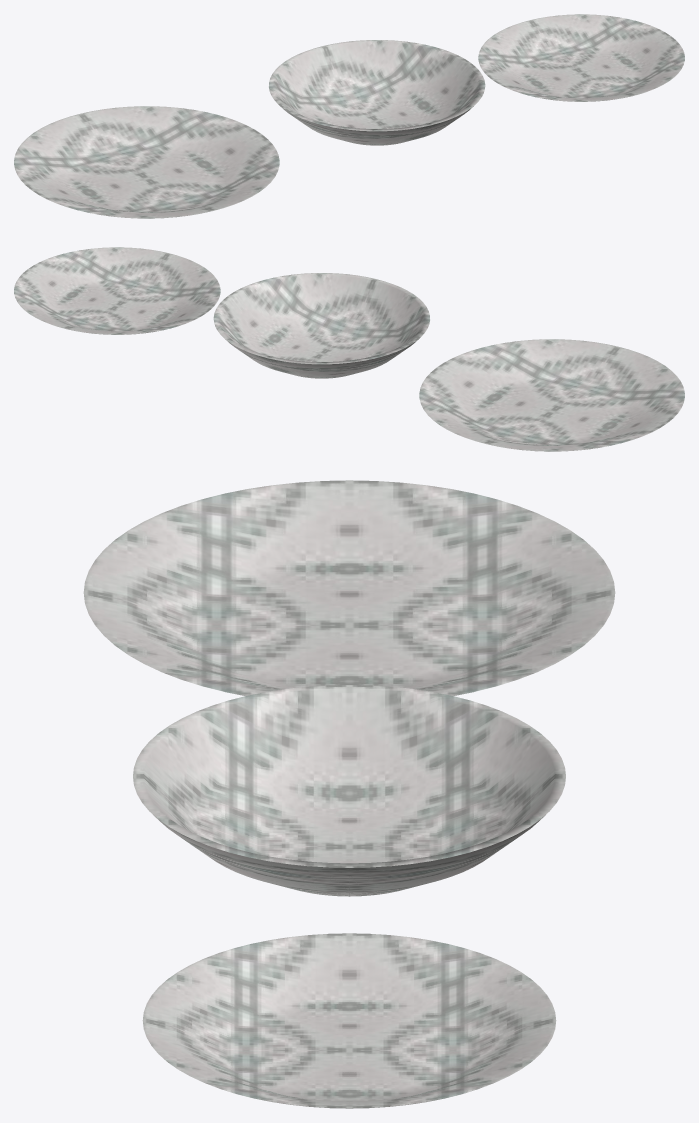
File: FLO-10.glb
3 views of the same model, one above another, from view 1: azimuth 30°, elevation 25°; view 2: azimuth 150°, elevation 25°; view 3: azimuth 270°, elevation 25° (orthographic). The views are drawn at different scales.
Bounding box in the file's own units: 0.75 × 0.045 × 0.27.
Materials: 6 (6 with a texture image).
